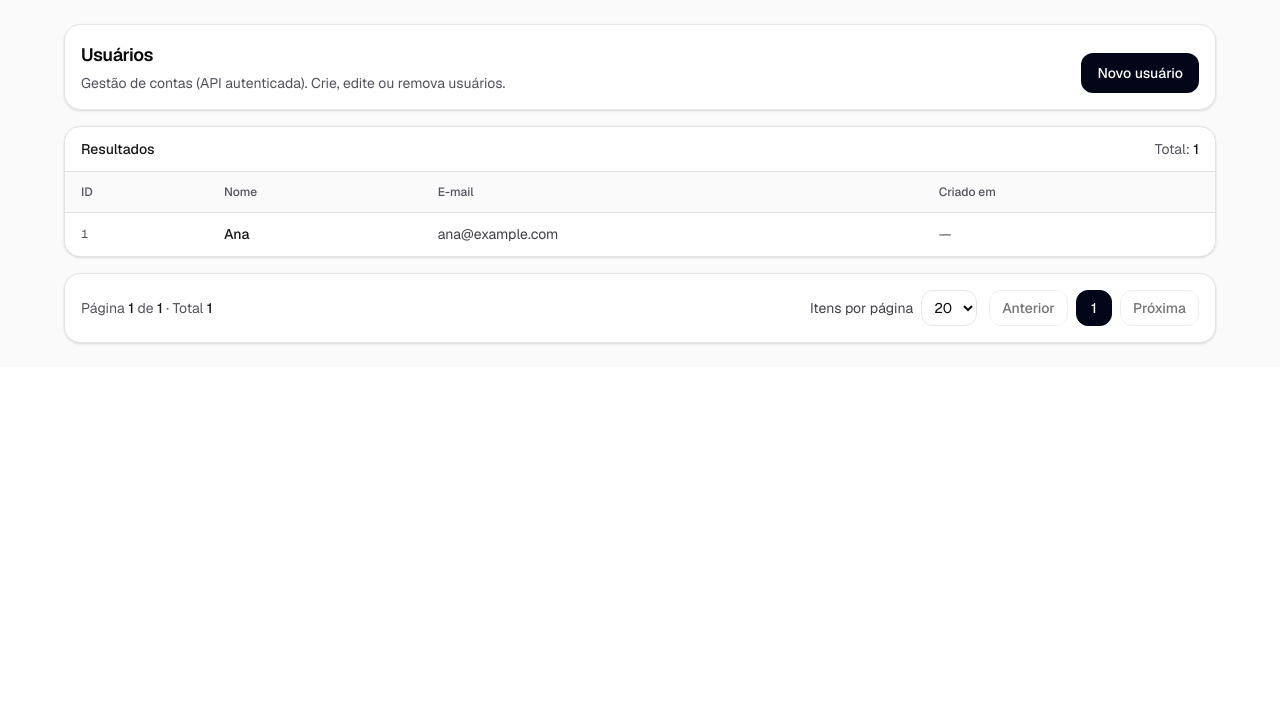
UsersPage (UI) › deve validar senha obrigatória ao criar
Expected: the text "Ana" is shown, [208,212,422,256]
Click the button "Novo usuário".
click(1140, 73)  # box [1081,53,1199,93]
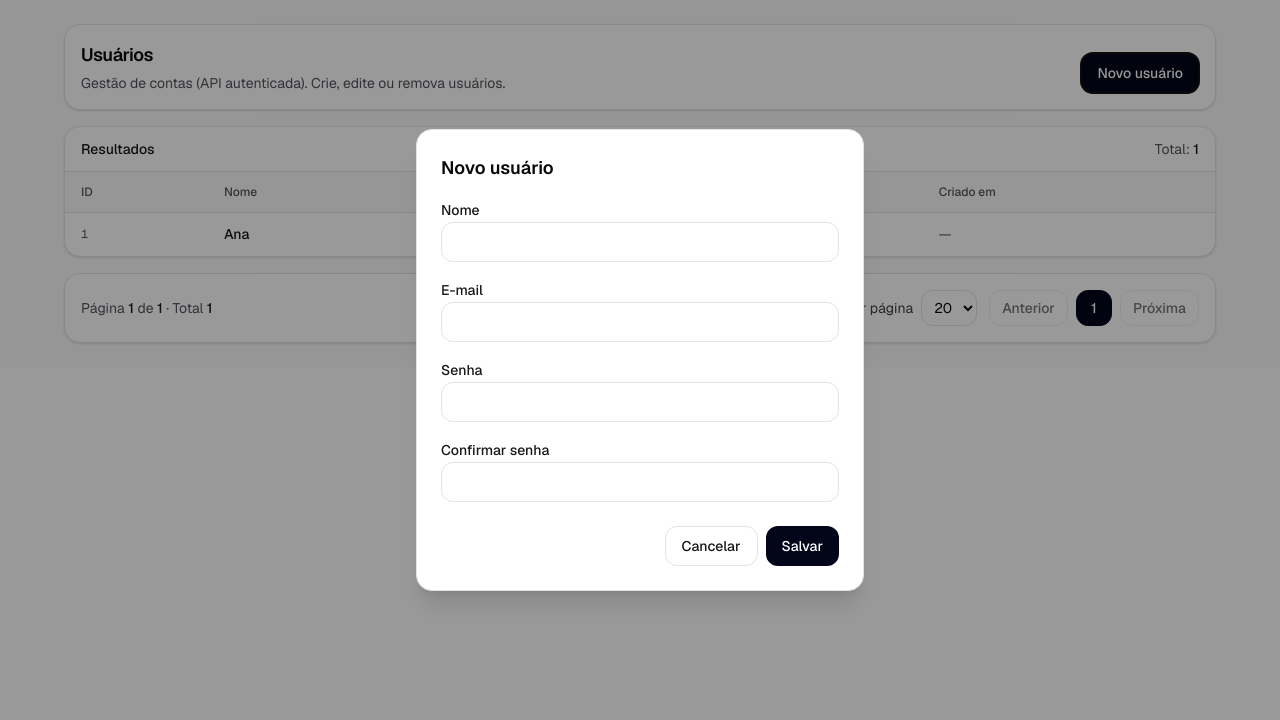
Type "Sem Senha" into the field labelled "Nome".
click(640, 242); type("Sem Senha")  # box [441,222,839,262]
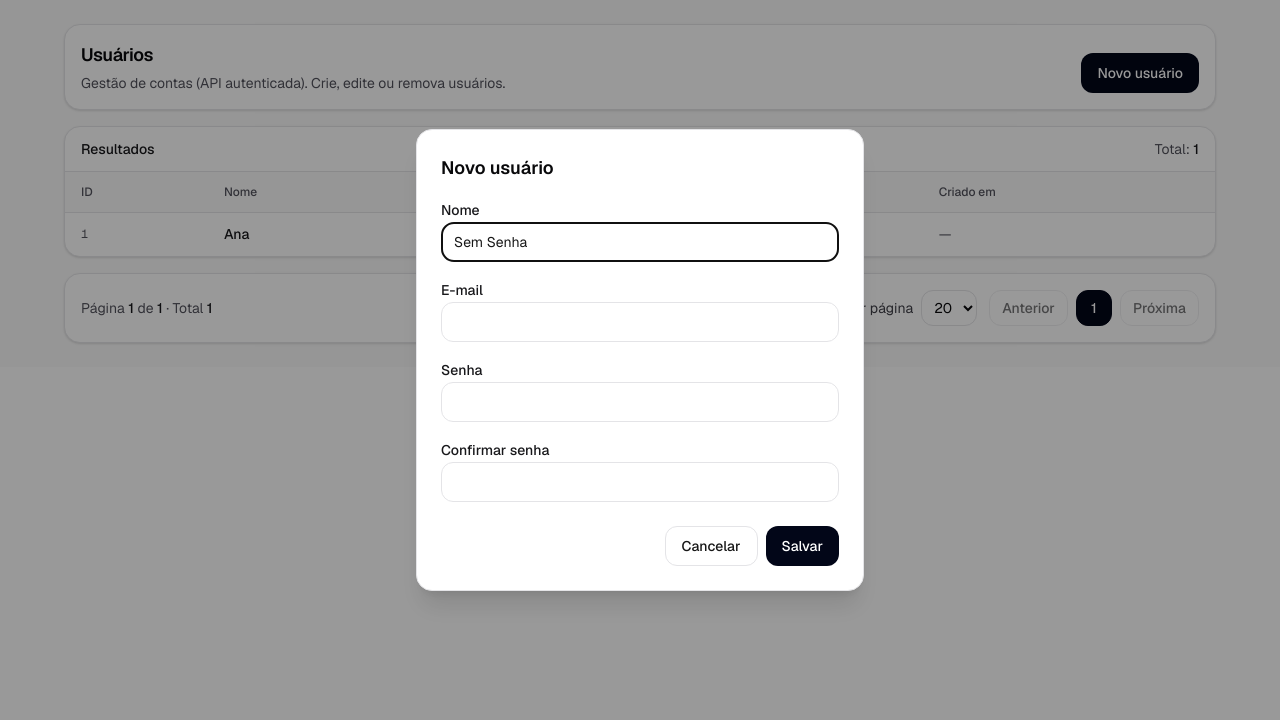
Type "sem@example.com" into the field labelled "E-mail".
click(640, 322); type("sem@example.com")  # box [441,302,839,342]
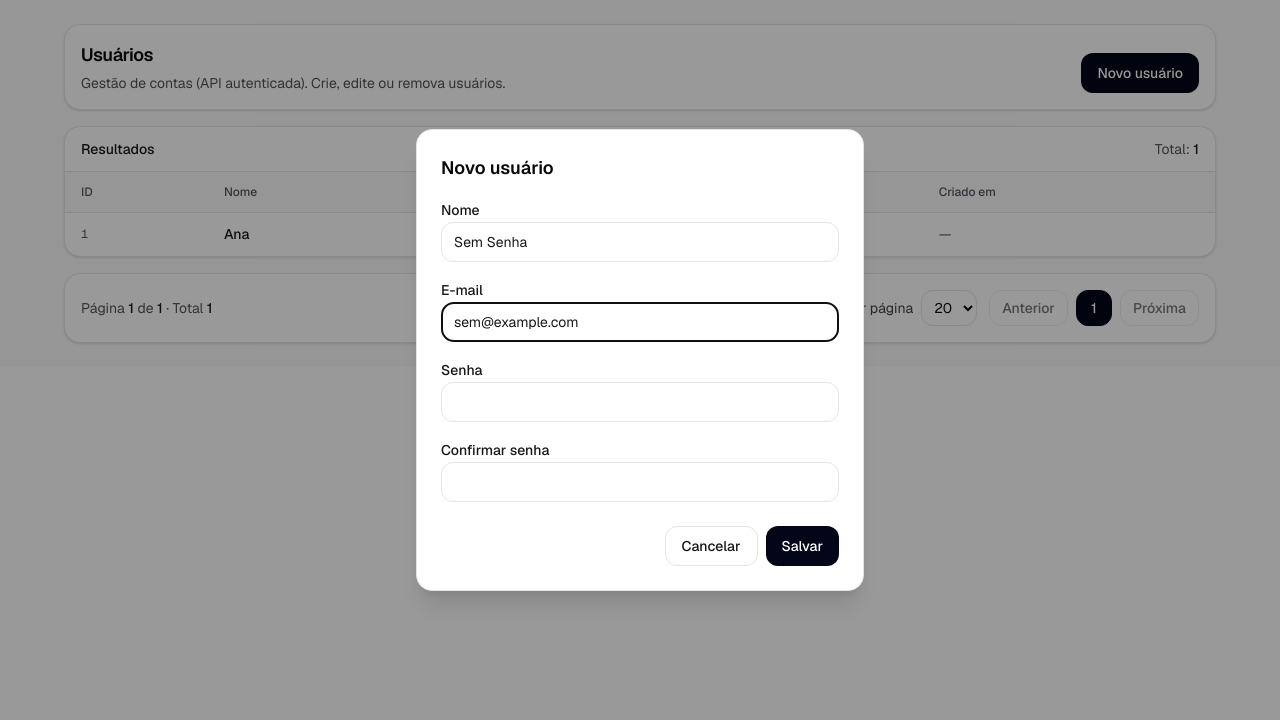
Click the button "Salvar".
click(802, 546)  # box [766,526,839,566]
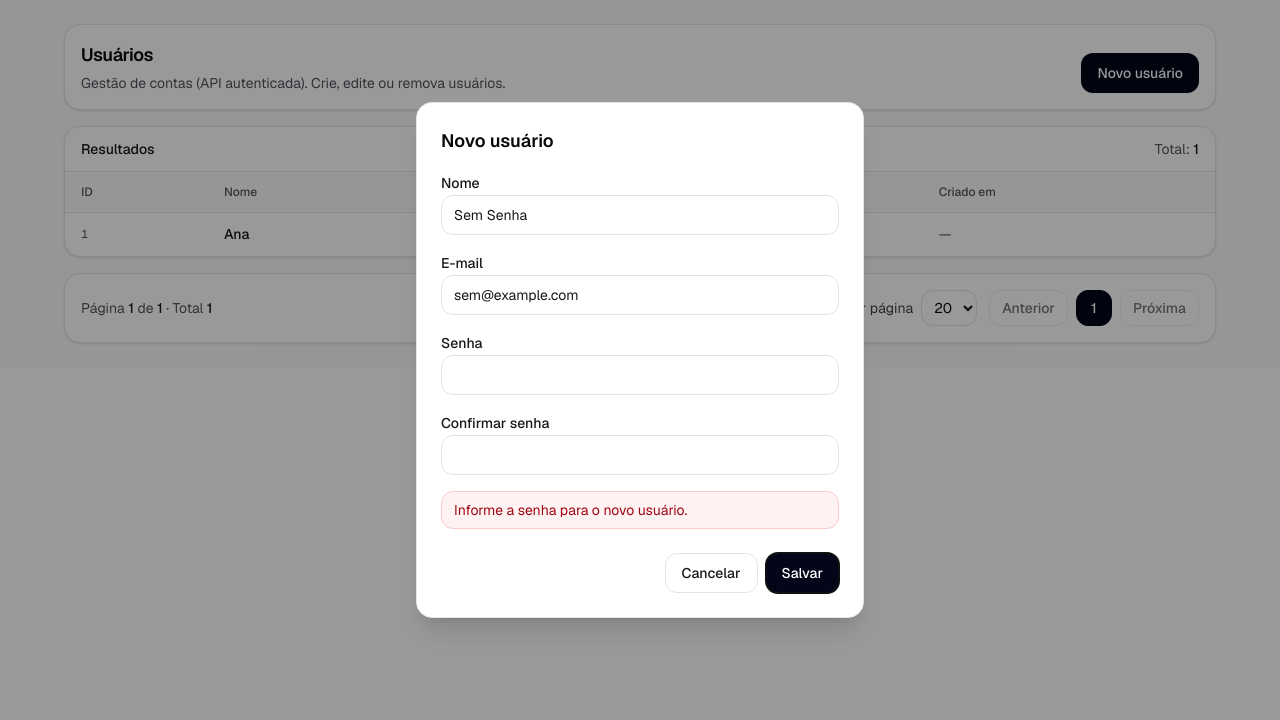
Expected: the text "Informe a senha para o novo usuário." is shown, [441,491,839,529]
